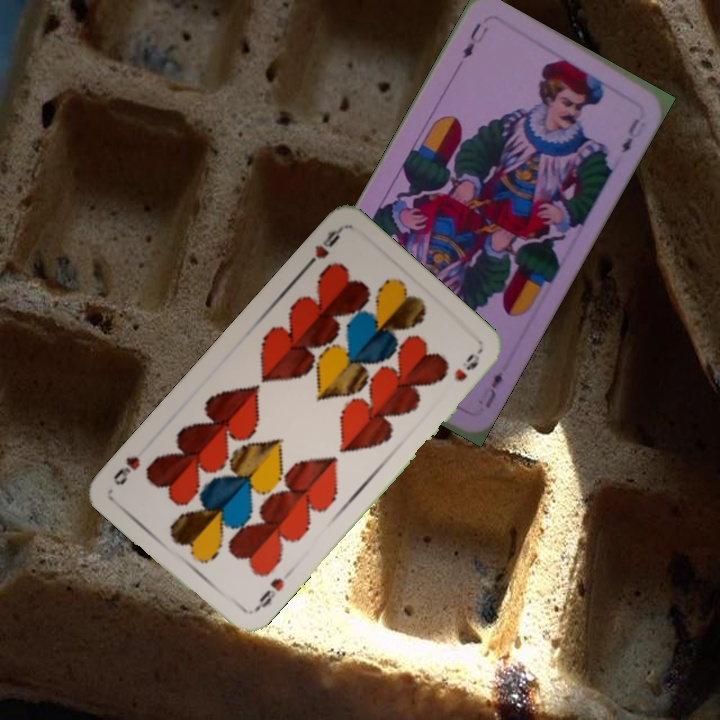EU: (458, 18, 491, 62), (479, 367, 506, 412)
H9: (299, 224, 344, 273), (246, 573, 287, 615)
